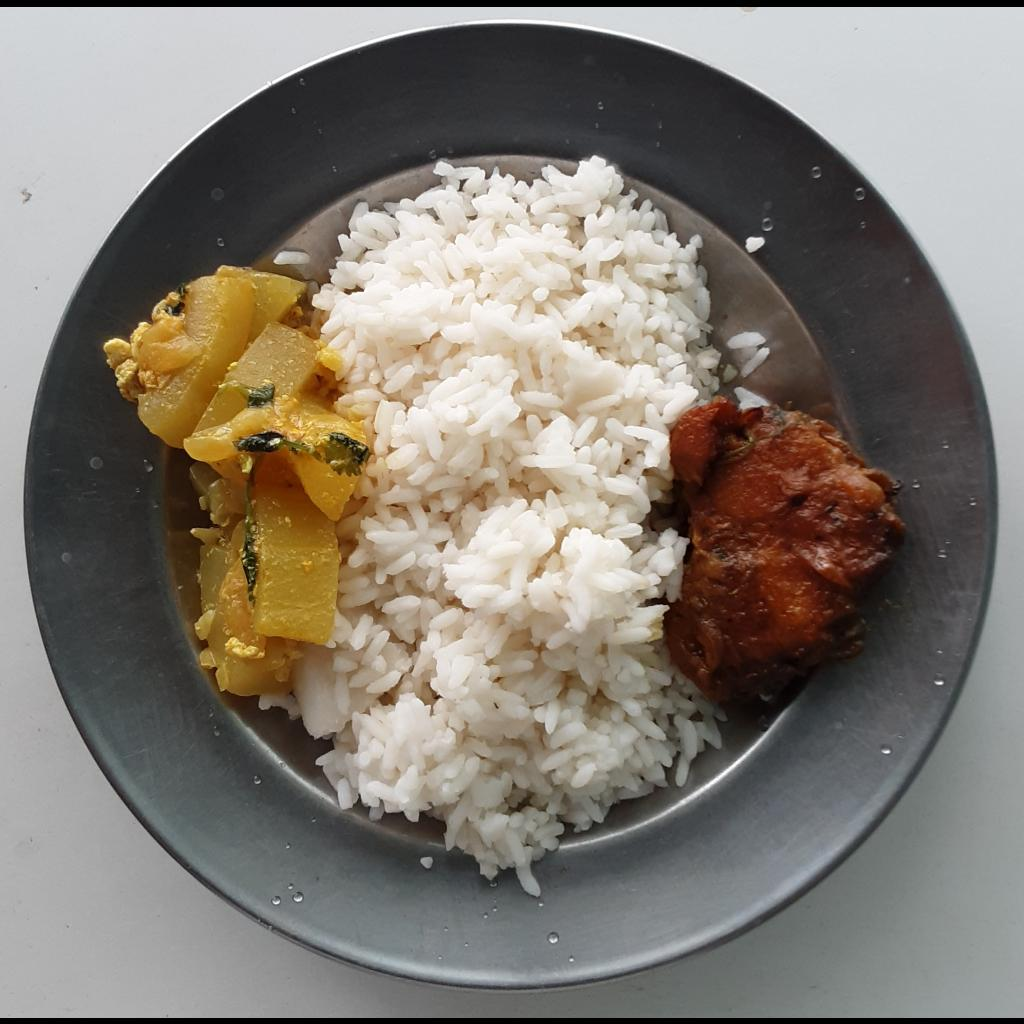egg: (101, 293, 197, 396)
fish: (665, 396, 910, 696)
lau: (133, 266, 367, 696)
rice: (262, 156, 771, 899)
